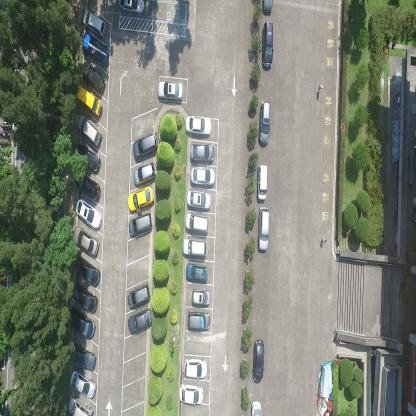car: (70, 226, 100, 259), (81, 32, 110, 64), (75, 84, 102, 118), (69, 306, 95, 340), (74, 200, 102, 231), (73, 256, 100, 287), (73, 282, 99, 314), (70, 368, 96, 400), (80, 60, 105, 93), (77, 114, 101, 148), (131, 130, 158, 160), (127, 185, 154, 213), (128, 306, 154, 335), (81, 8, 107, 37), (70, 343, 96, 372), (75, 144, 99, 174), (76, 171, 100, 201), (127, 281, 150, 311), (261, 19, 274, 72), (128, 212, 152, 239), (186, 111, 212, 135), (183, 356, 208, 380), (158, 78, 183, 102), (258, 100, 271, 146), (178, 382, 204, 405), (66, 394, 93, 416), (257, 205, 269, 254), (186, 308, 210, 332), (190, 165, 216, 187), (186, 189, 212, 211), (134, 160, 156, 186), (252, 339, 264, 386), (183, 236, 207, 259), (185, 261, 208, 283), (190, 141, 214, 162), (256, 163, 269, 201), (185, 212, 208, 233), (118, 0, 146, 14), (192, 287, 211, 307), (261, 0, 273, 15), (251, 400, 262, 416)
